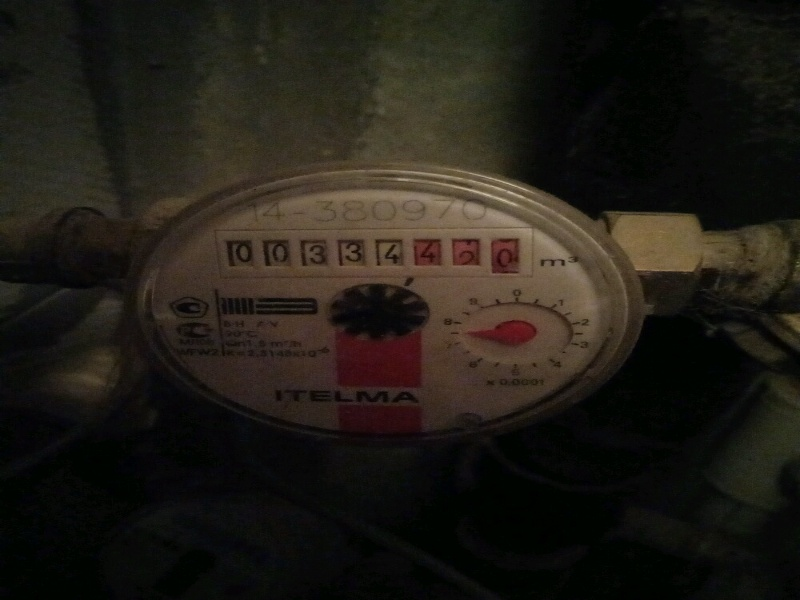meter: (226, 230, 519, 277)
